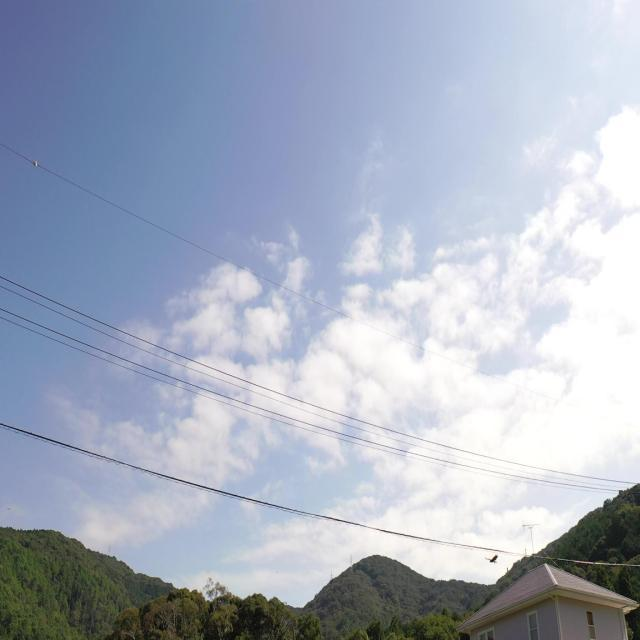Birds: (480, 548, 502, 570)
